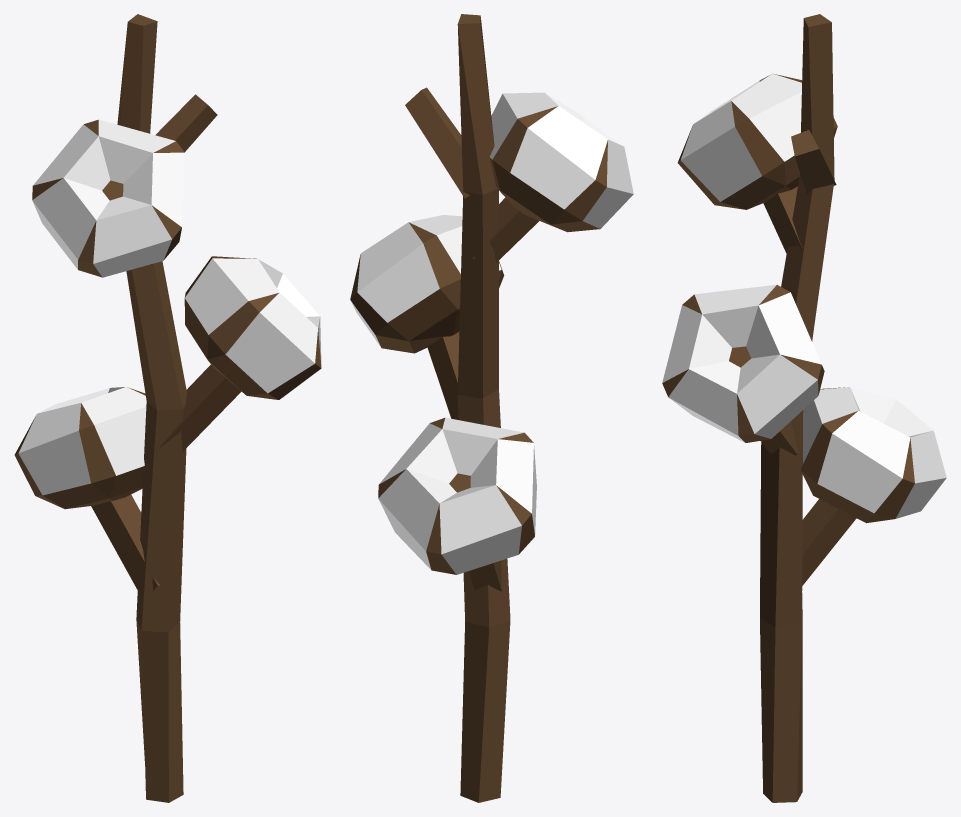
File: cotton.glb
The picture shows the model from 3 angles, left to right: view 1: azimuth 30°, elevation 25°; view 2: azimuth 150°, elevation 25°; view 3: azimuth 270°, elevation 25°; orthographic projection. The views are drawn at different scales.
Parts seen in each view (by area): view 1: cotton; view 2: cotton; view 3: cotton.
Part boxes in pixels (x1=…): cotton: x1=14, y1=14, x2=321, y2=802; cotton: x1=350, y1=14, x2=633, y2=802; cotton: x1=662, y1=14, x2=946, y2=802.
Size of the model in its own units: 0.293 by 0.8181 by 0.2731.
1 material, 1 textured.
